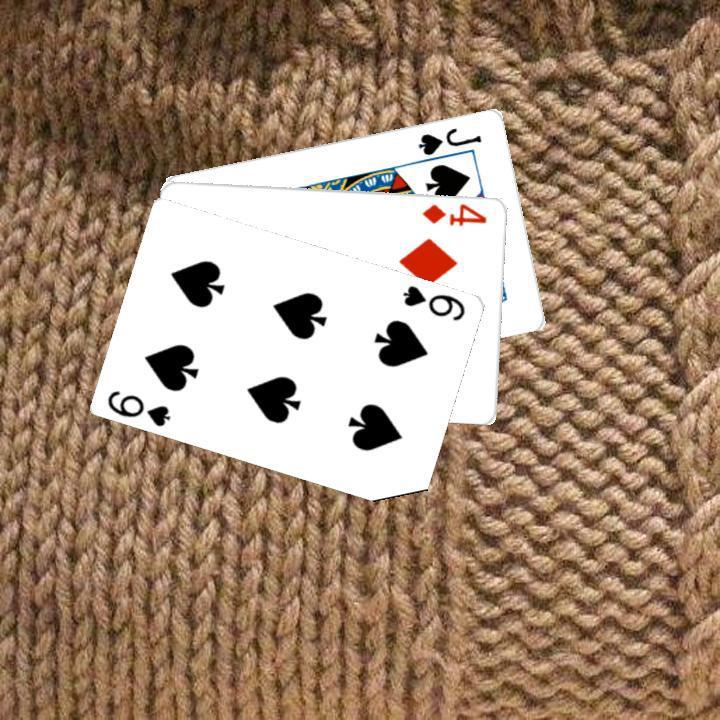4: (419, 199, 490, 227)
6: (398, 280, 468, 323), (103, 386, 173, 429)
J: (414, 122, 484, 157)
